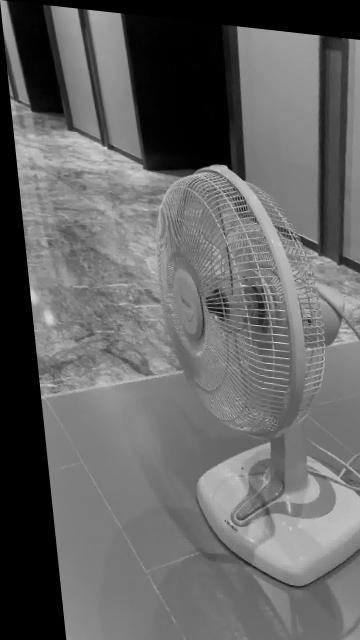Fan: (152, 161, 360, 583)
